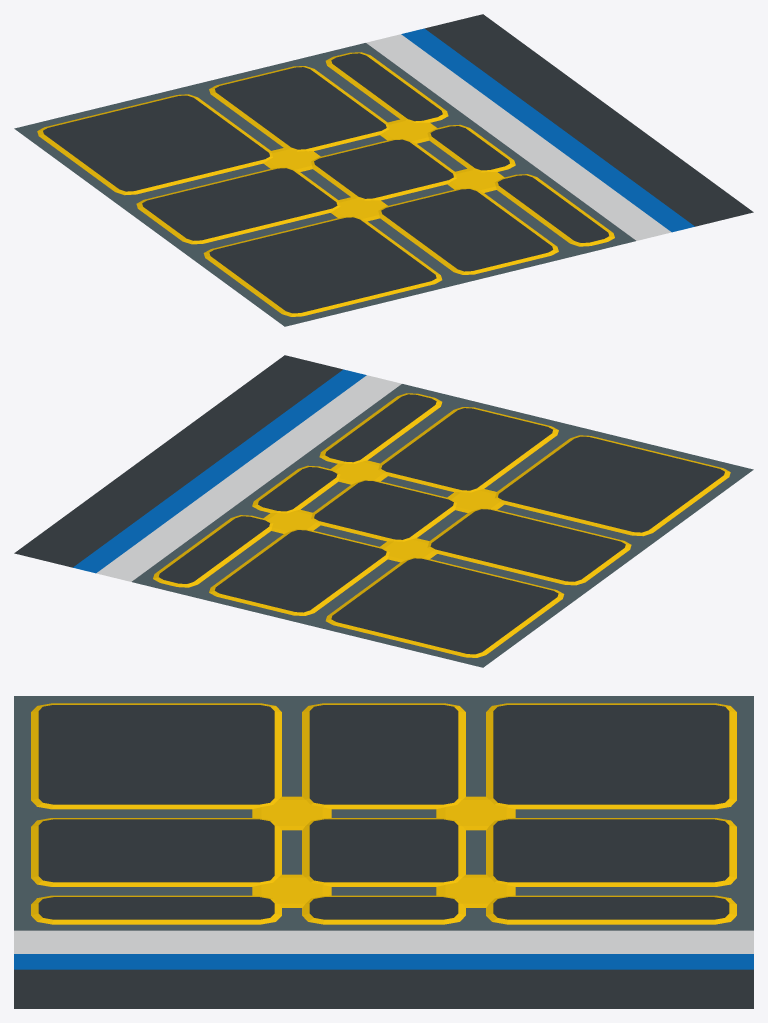
File: Floor_type_C_019.fbx
3 renders of one model, top to bottom at view 1: azimuth 30°, elevation 25°; view 2: azimuth 150°, elevation 25°; view 3: azimuth 270°, elevation 25°, orthographic. The views are drawn at different scales.
Parts seen in each view (by area): view 1: Floor_type_C_019; view 2: Floor_type_C_019; view 3: Floor_type_C_019.
Boxes of the visible parts, x1=… form: Floor_type_C_019: x1=14, y1=14, x2=753, y2=326; Floor_type_C_019: x1=14, y1=355, x2=753, y2=667; Floor_type_C_019: x1=14, y1=696, x2=753, y2=1008.
Size of the model in its own units: 400 by 400 by 1.34.
